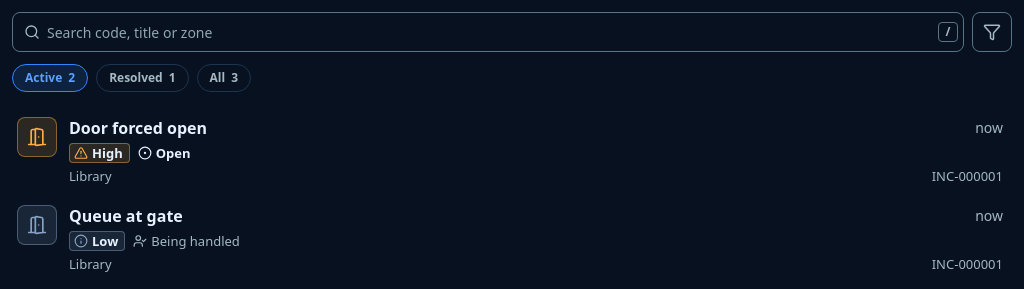
it: IncidentFeed › search › searches code, title and zone
Type "door" into the search field named "Search incidents". click: (488, 32)
box: [12,12,964,52]
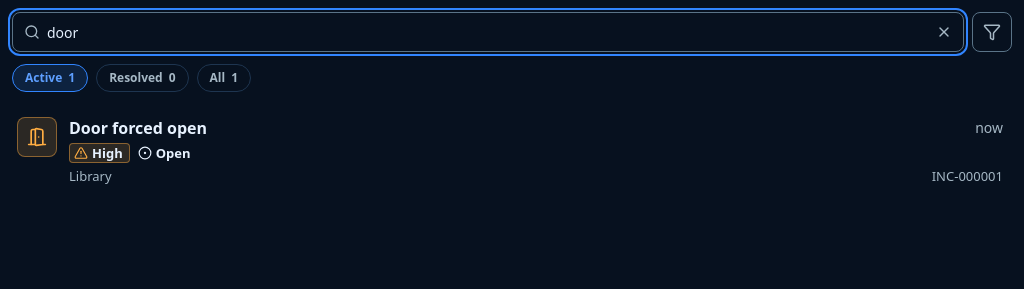
Expected: the text "Door forced open" is shown, [69,117,207,139]
Now the button "Queue at gate" is gone
Replace the text in the search field named "Search incidents" with "gate". click: (488, 32)
box: [12,12,964,52]
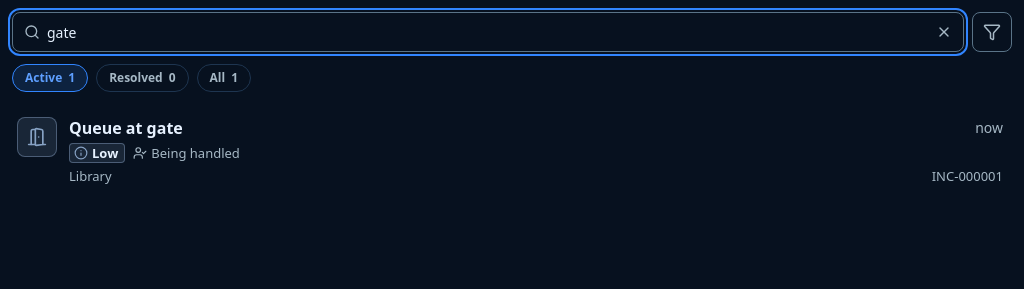
Now the text "Queue at gate" is shown, box [69,117,183,139]
Now the button "Door forced open" is gone
